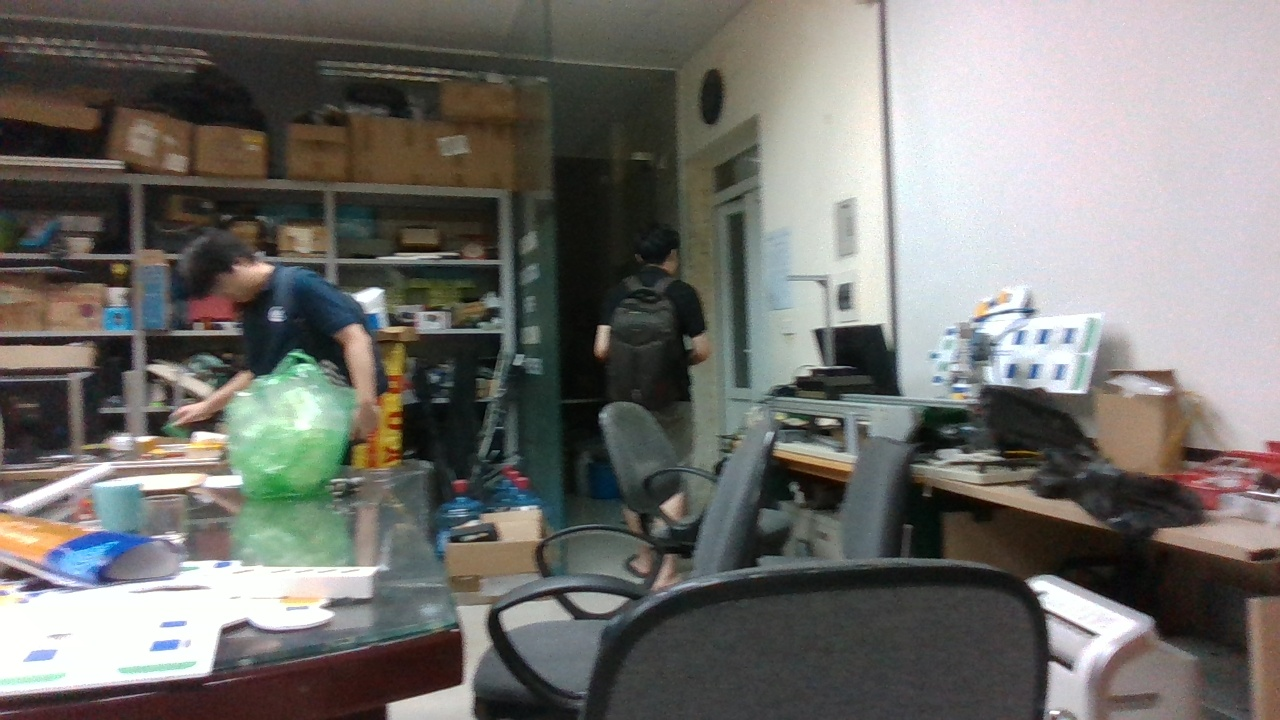person: (161, 228, 381, 466), (599, 234, 704, 506)
